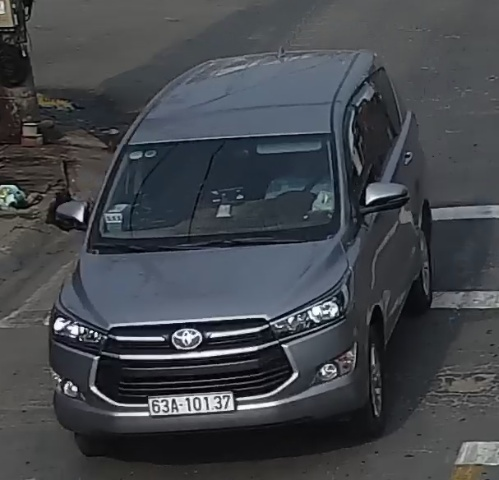vehicle plate: (143, 393, 244, 415)
